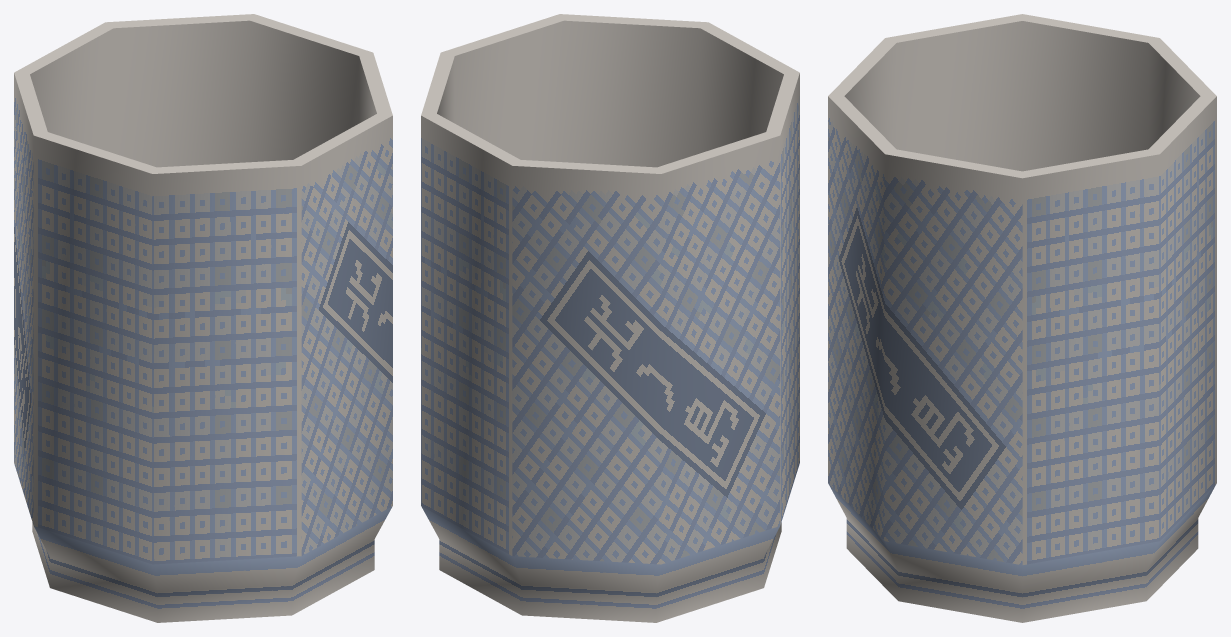
File: 0431_Teacup.glb
3 views of the same model, side by side, from view 1: azimuth 30°, elevation 25°; view 2: azimuth 150°, elevation 25°; view 3: azimuth 270°, elevation 25° (orthographic).
Parts seen in each view (by area): view 1: part_0; view 2: part_0; view 3: part_0.
Boxes of the visible parts, <box> form: part_0: <box>14,14,392,622</box>; part_0: <box>421,14,799,622</box>; part_0: <box>828,14,1216,622</box>.
Size of the model in its own units: 0.07 by 0.0899 by 0.07.
1 material, 1 textured.
